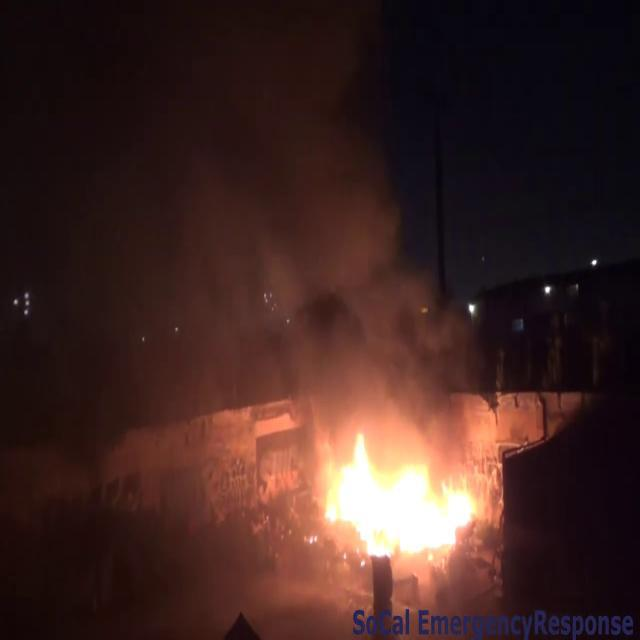Fire: (308, 428, 486, 561)
Smoke: (21, 2, 472, 477)
